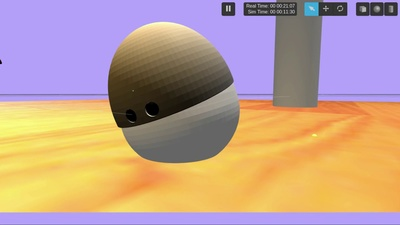mira_robot: (108, 21, 240, 163)
